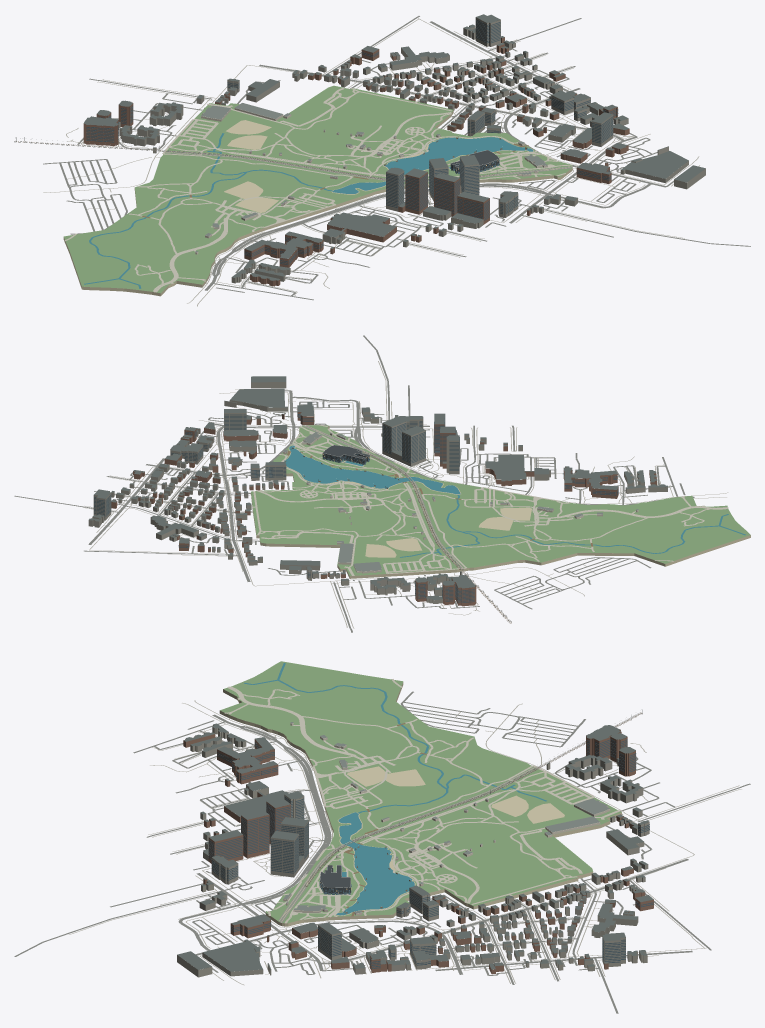
The model's file is waterloo-park-detail.glb.
3 renders of one model, top to bottom at view 1: azimuth 30°, elevation 25°; view 2: azimuth 150°, elevation 25°; view 3: azimuth 270°, elevation 25°, orthographic. The views are drawn at different scales.
Parts seen in each view (by area): view 1: lawn, neighbourhood-context-stone, neighbourhood-context-roof, neighbourhood-context-road, neighbourhood-context-brick, path, neighbourhood-context-glass, neighbourhood-context-walk, sand, water, roof, rail (+1 smaller); view 2: lawn, neighbourhood-context-stone, neighbourhood-context-roof, neighbourhood-context-road, path, neighbourhood-context-brick, neighbourhood-context-walk, neighbourhood-context-glass, sand, water, roof, rail (+2 smaller); view 3: lawn, neighbourhood-context-stone, neighbourhood-context-roof, neighbourhood-context-road, path, neighbourhood-context-brick, neighbourhood-context-glass, neighbourhood-context-walk, sand, water, roof, rail (+2 smaller).
Part boxes in pixels (x1,y1,x2,y2): lawn: (63,85,572,293); neighbourhood-context-stone: (118,17,705,283); neighbourhood-context-roof: (84,14,705,280); neighbourhood-context-road: (43,16,750,300); neighbourhood-context-brick: (83,37,629,286); path: (64,88,572,292); neighbourhood-context-glass: (86,19,618,264); neighbourhood-context-walk: (43,18,699,306); sand: (63,110,572,296); water: (84,133,533,288); roof: (195,103,547,252); rail: (164,150,573,182); lawn: (251,425,750,575); neighbourhood-context-stone: (88,382,667,603); neighbourhood-context-roof: (89,376,667,600); neighbourhood-context-road: (14,335,694,632); path: (252,424,728,575); neighbourhood-context-brick: (111,408,656,606); neighbourhood-context-walk: (83,361,728,628); neighbourhood-context-glass: (94,411,618,602); sand: (251,425,750,578); water: (284,445,745,557); roof: (283,432,638,571); rail: (302,425,463,568); lawn: (220,661,621,923); neighbourhood-context-stone: (177,725,649,977); neighbourhood-context-roof: (177,723,653,971); neighbourhood-context-road: (14,691,750,1013); path: (224,679,620,923); neighbourhood-context-brick: (183,730,653,974); neighbourhood-context-glass: (208,739,653,968); neighbourhood-context-walk: (68,700,741,985); sand: (219,682,621,926); water: (244,663,546,915); roof: (283,722,609,913); rail: (278,767,537,922).
Size of the model in its own units: 56.03 by 3.02 by 50.1.
